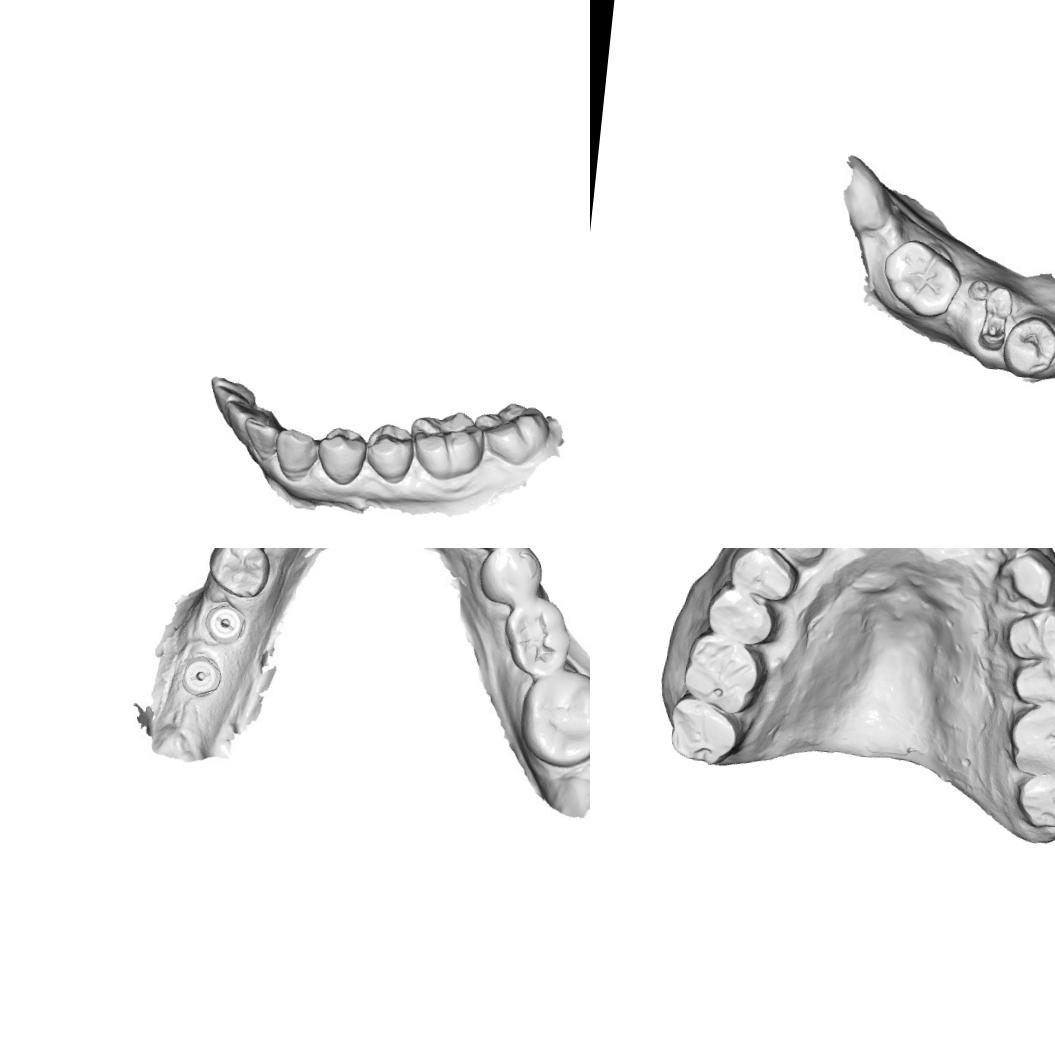canine: (999, 548, 1055, 611), (271, 426, 321, 485)
implant_minus: (204, 602, 250, 649), (180, 654, 224, 694)
incisor: (240, 416, 281, 463), (221, 398, 259, 447), (210, 384, 252, 410), (982, 548, 1039, 562)
molar: (675, 628, 767, 718), (513, 667, 590, 772), (876, 234, 966, 322), (404, 405, 488, 486), (662, 694, 744, 770), (498, 593, 571, 677), (468, 398, 552, 470), (1004, 698, 1055, 780), (1013, 759, 1055, 834)
premolar: (702, 583, 783, 649), (725, 548, 803, 605), (1000, 310, 1055, 385), (475, 548, 542, 609), (362, 420, 418, 486), (313, 425, 370, 488), (204, 548, 271, 601), (1003, 606, 1055, 667), (1007, 651, 1055, 713)
